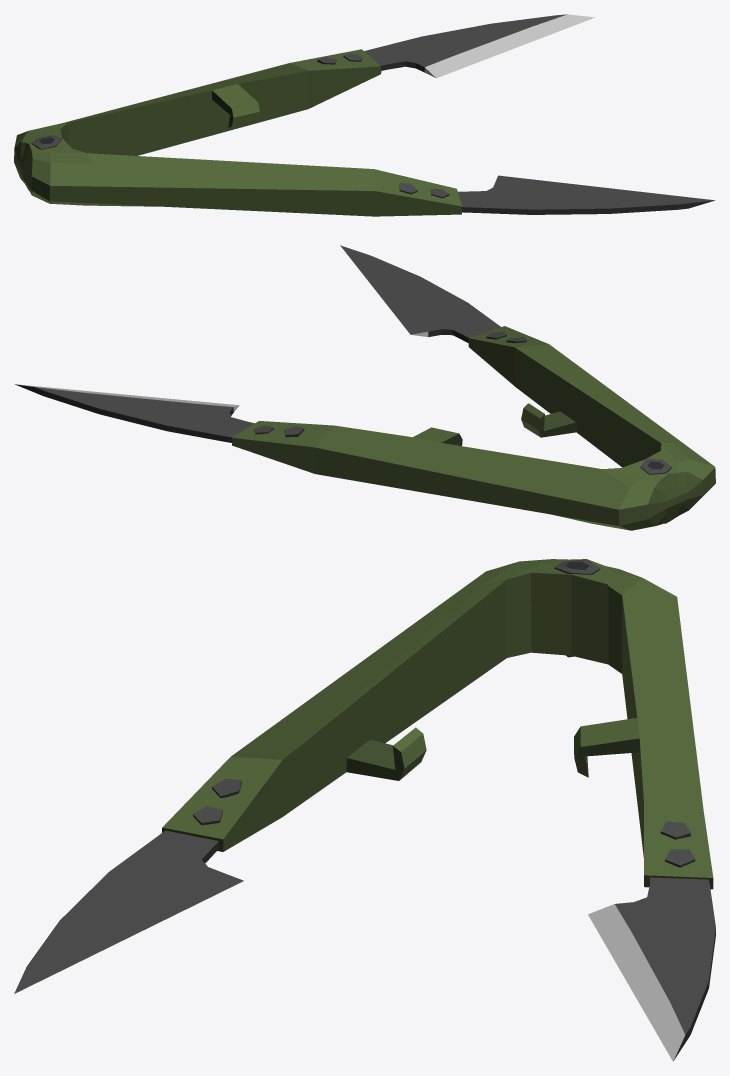
The model's file is WorldItem_ArmyScissors.fbx.
3 renders of one model, top to bottom at view 1: azimuth 30°, elevation 25°; view 2: azimuth 150°, elevation 25°; view 3: azimuth 270°, elevation 25°, orthographic. The views are drawn at different scales.
Parts seen in each view (by area): view 1: ZomboidArmyScissors; view 2: ZomboidArmyScissors; view 3: ZomboidArmyScissors.
Boxes of the visible parts, x1,y1,x2,y2 form: ZomboidArmyScissors: (14, 14, 715, 216); ZomboidArmyScissors: (15, 245, 715, 530); ZomboidArmyScissors: (14, 559, 715, 1061).
Size of the model in its own units: 0.1963 by 0.0173 by 0.1278.
